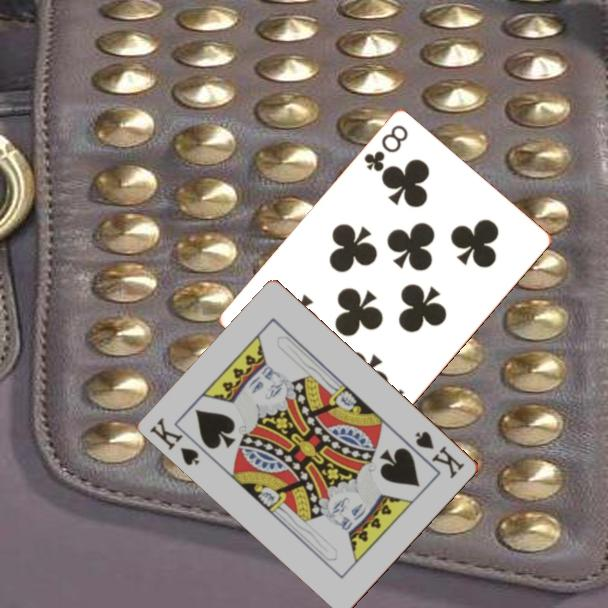c08: (360, 122, 411, 175)
s13: (147, 414, 203, 469), (411, 428, 468, 482)
